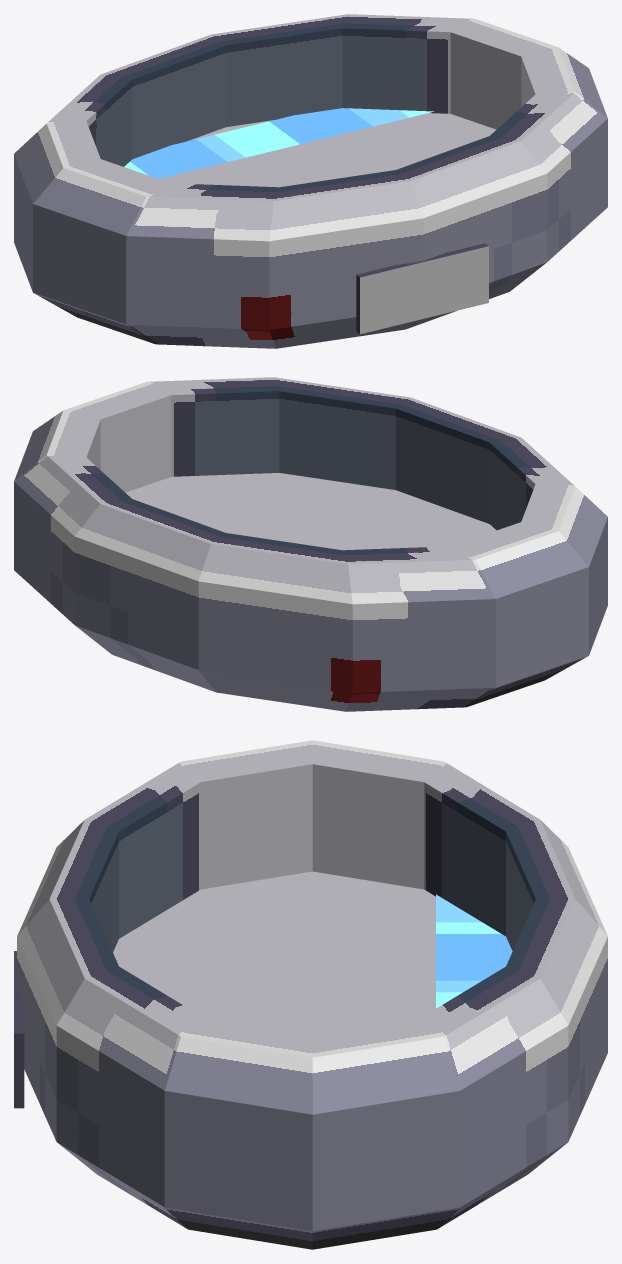
File: fishing_portal_generator.glb
3 views of the same model, one above another, from view 1: azimuth 30°, elevation 25°; view 2: azimuth 150°, elevation 25°; view 3: azimuth 270°, elevation 25° (orthographic). The views are drawn at different scales.
Visible parts, largest first — view 1: Fishing_Portal_Rim, Service_Hatch, Destination_Surface; view 2: Fishing_Portal_Rim; view 3: Fishing_Portal_Rim, Destination_Surface, Service_Hatch.
Boxes of the visible parts, x1,y1,x2,y2 form: Fishing_Portal_Rim: (14,14,607,348); Service_Hatch: (356,243,488,334); Destination_Surface: (124,108,434,178); Fishing_Portal_Rim: (14,377,607,711); Fishing_Portal_Rim: (17,740,607,1249); Destination_Surface: (436,894,512,1008); Service_Hatch: (14,951,24,1108).
Size of the model in its own units: 1.64 by 0.43 by 1.15.
Materials: 2 (2 with a texture image).
